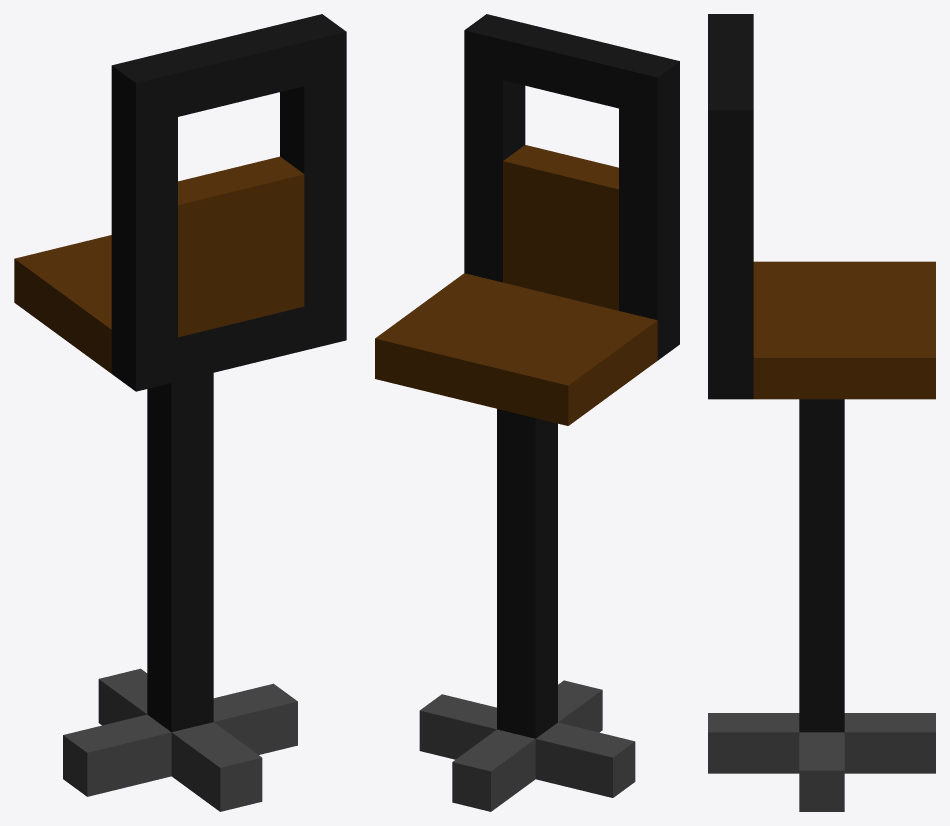
The model's file is bar chair.obj.
3 renders of one model, left to right at view 1: azimuth 30°, elevation 25°; view 2: azimuth 150°, elevation 25°; view 3: azimuth 270°, elevation 25°, orthographic. The views are drawn at different scales.
Size of the model in its own units: 0.5 by 1.7 by 0.5.
1 material, 1 textured.
